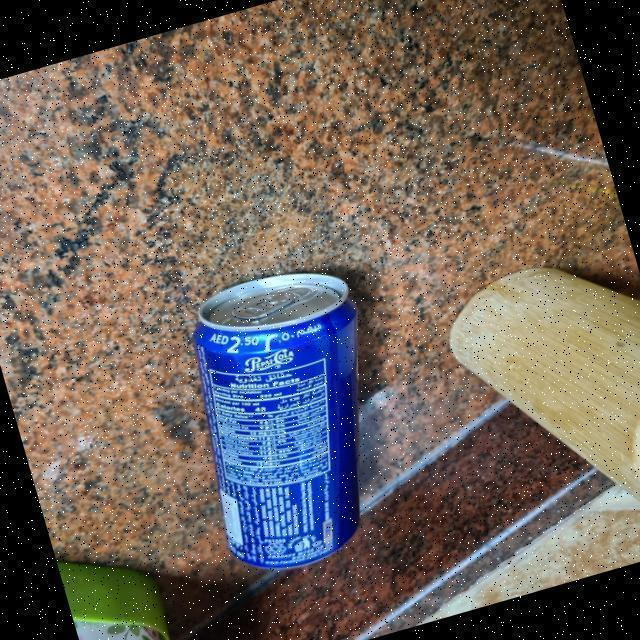Can: (189, 269, 367, 574)
